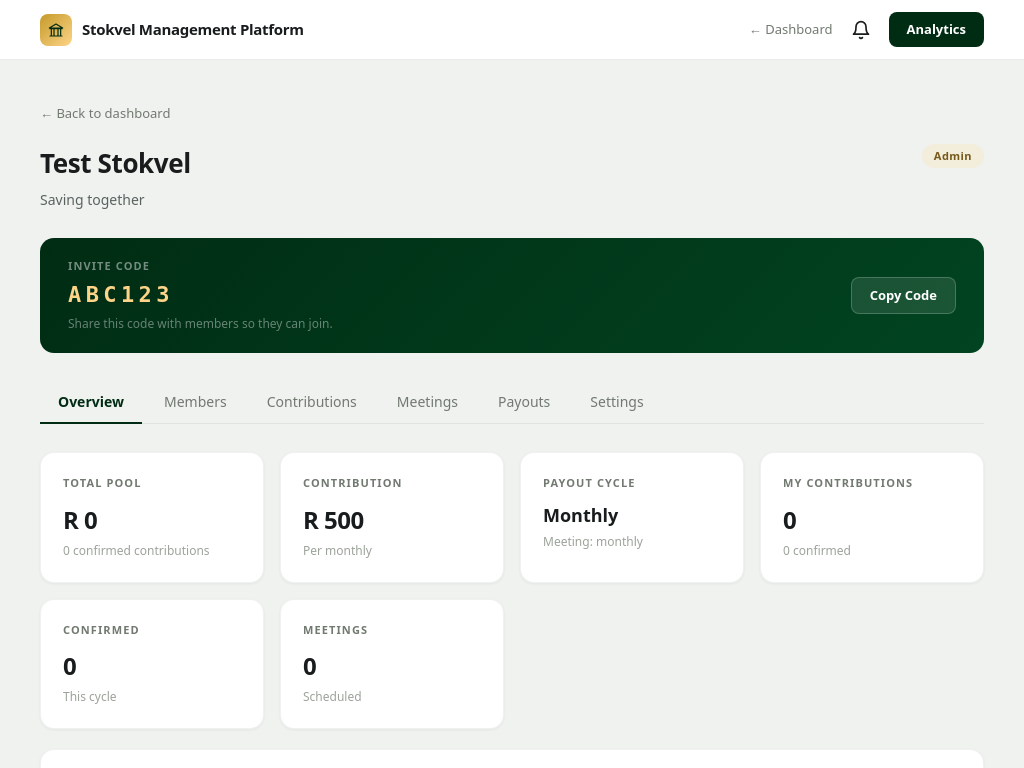
GroupDashboard › Tabs › clicking the members tab shows the members table
Click the button "members" at (195, 402), box [146,381,245,424]
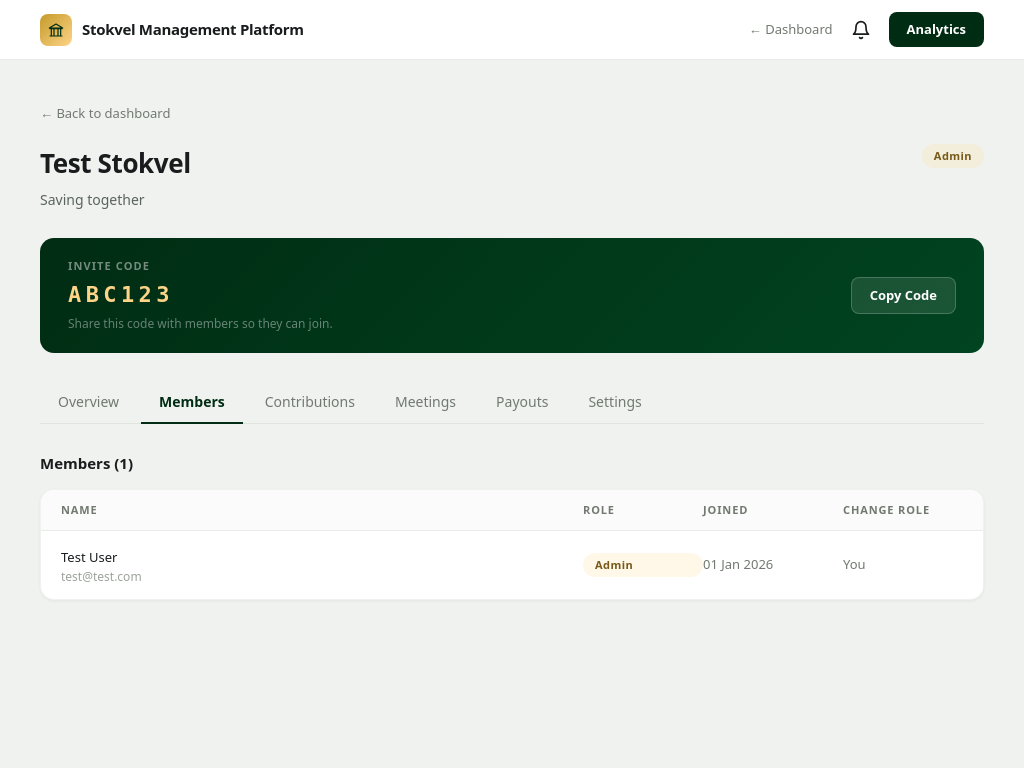
expect the text "Members (1)" is shown: met, box [40,452,133,474]
